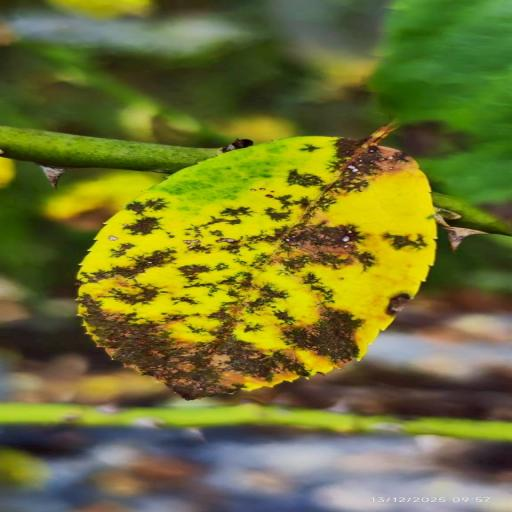black_spot: (78, 131, 436, 399)
